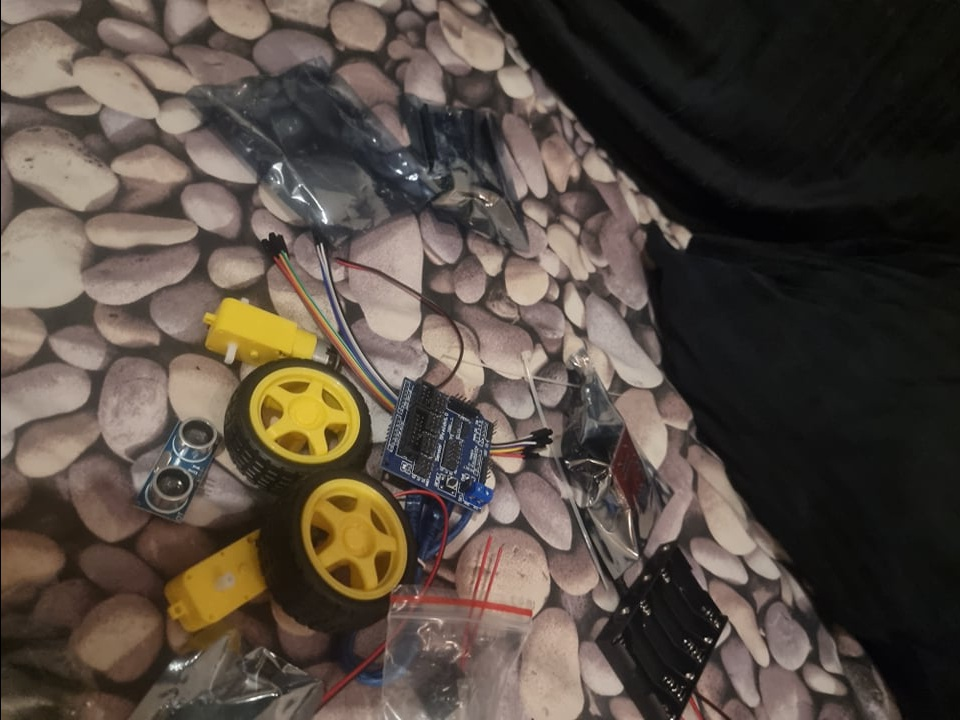5V EXPANSION: (385, 381, 495, 513)
SENSOR: (133, 406, 222, 523)
